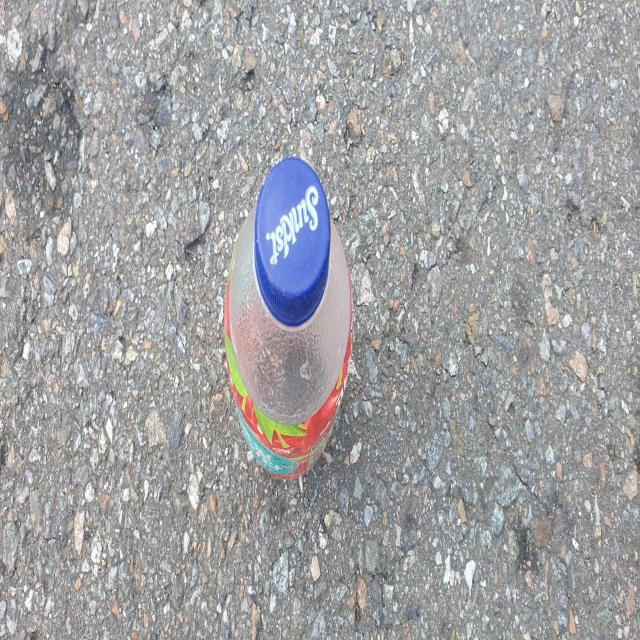plastic: (224, 155, 352, 478)
